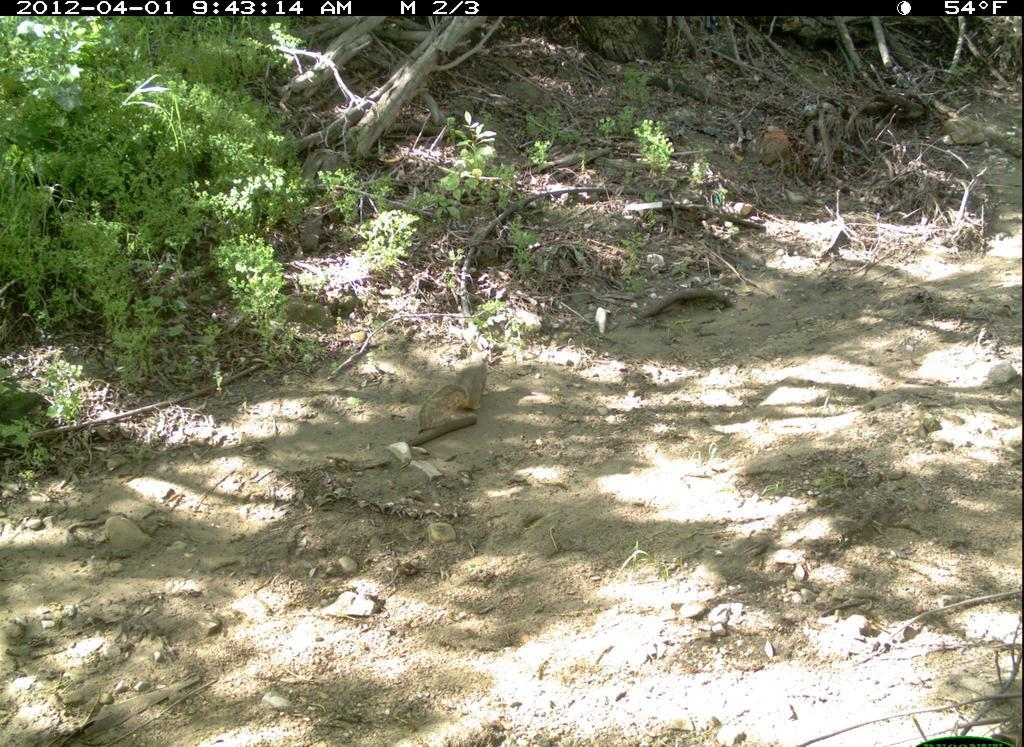squirrel: (402, 349, 525, 445)
